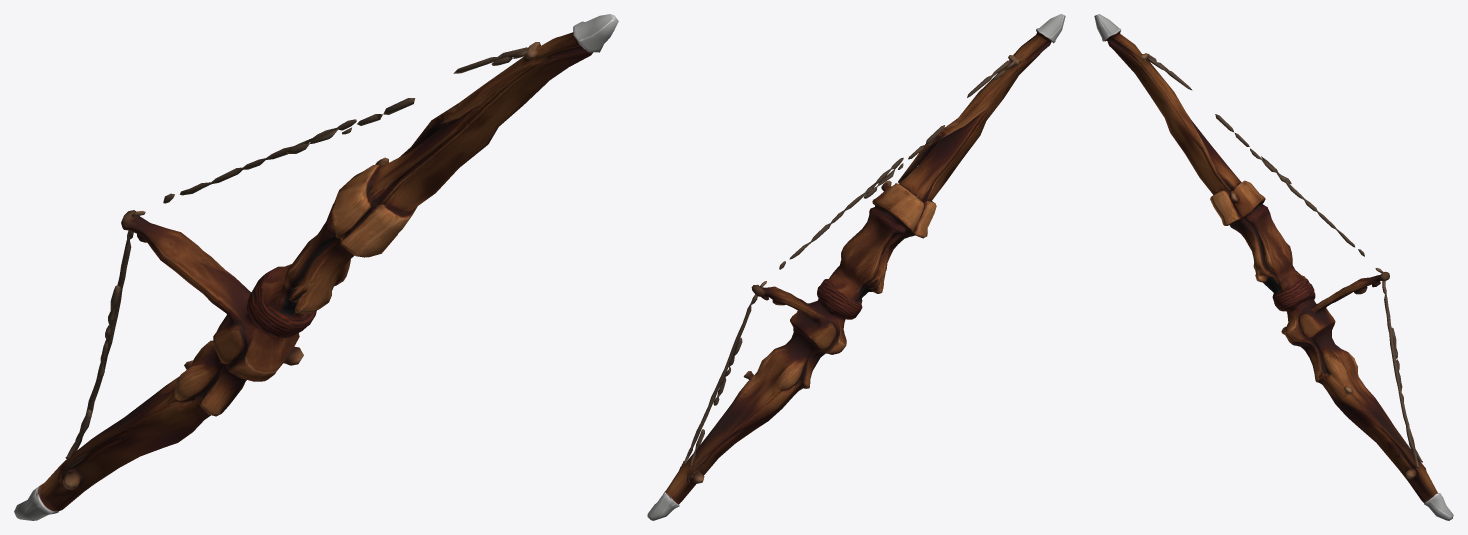
3 views of the same model, side by side, from view 1: azimuth 90°, elevation 25°; view 2: azimuth 150°, elevation 25°; view 3: azimuth 270°, elevation 25° (orthographic). The views are drawn at different scales.
Visible parts, largest first — view 1: tripo_node_392777f5-a50e-4f55-8ae3-da402df87b3c; view 2: tripo_node_392777f5-a50e-4f55-8ae3-da402df87b3c; view 3: tripo_node_392777f5-a50e-4f55-8ae3-da402df87b3c.
Boxes of the visible parts, <box> form: tripo_node_392777f5-a50e-4f55-8ae3-da402df87b3c: <box>14,14,618,520</box>; tripo_node_392777f5-a50e-4f55-8ae3-da402df87b3c: <box>647,14,1065,520</box>; tripo_node_392777f5-a50e-4f55-8ae3-da402df87b3c: <box>1094,14,1453,520</box>.
Size of the model in its own units: 0.5714 by 1 by 0.8082.
1 material, 1 textured.
